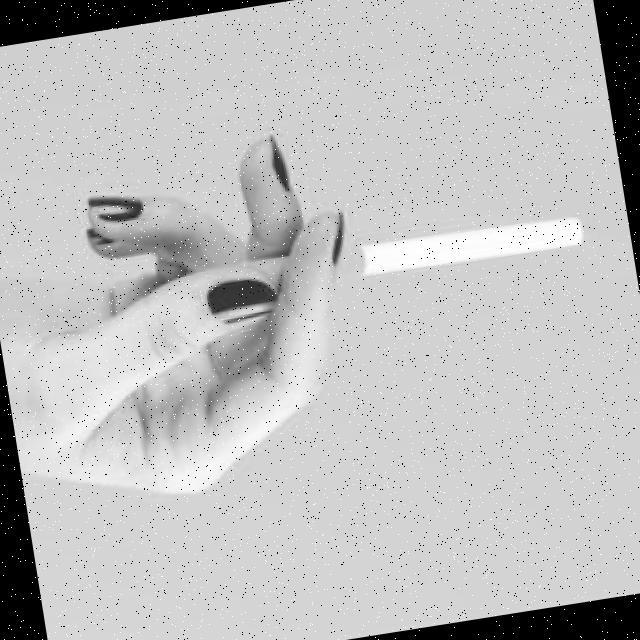cigarette: (336, 211, 586, 281)
